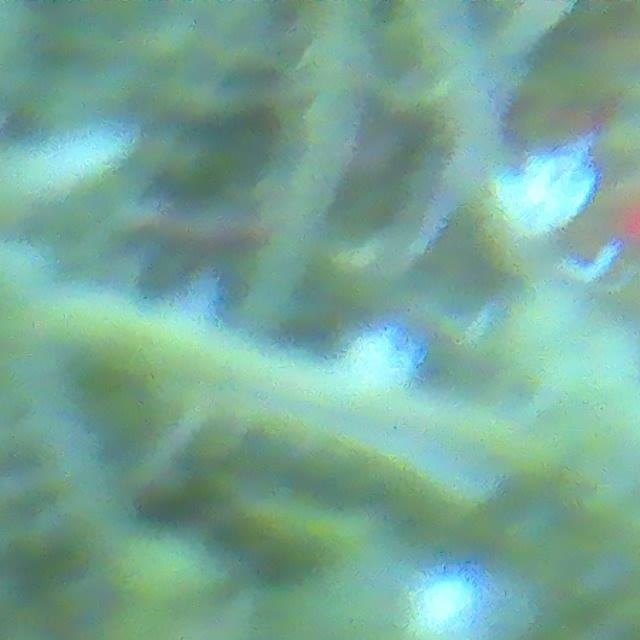SeaGrape: (117, 526, 216, 613)
